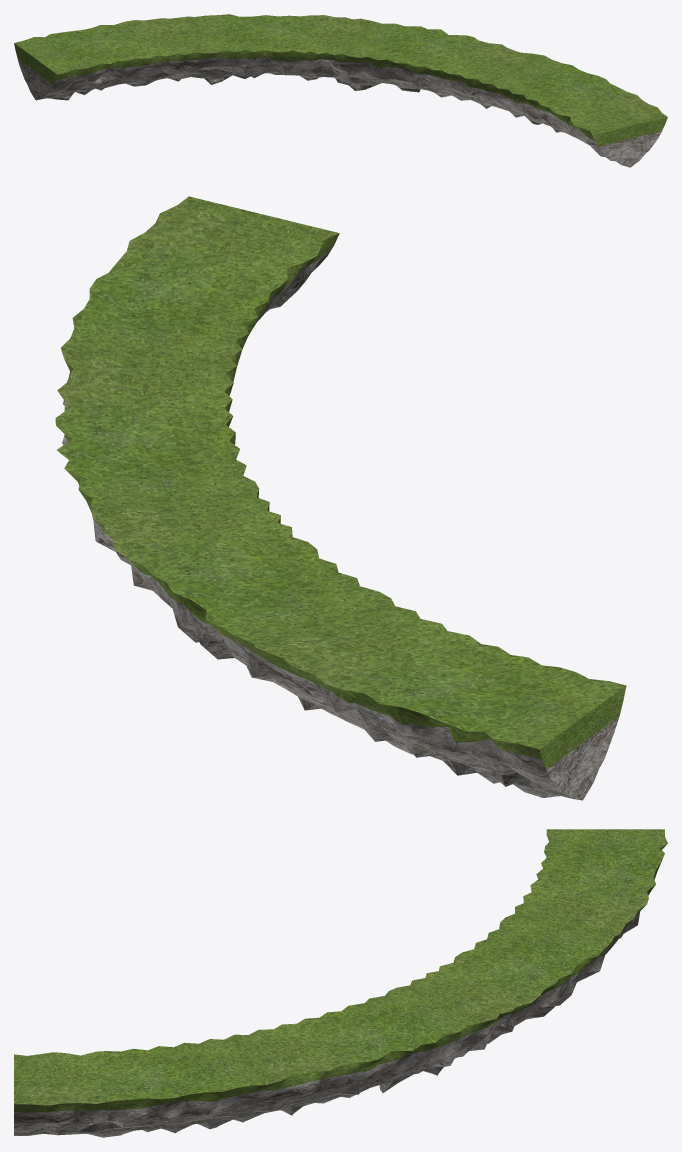
Rendered from Bocht90_Long_Flipped.FBX.
The picture shows the model from 3 angles, top to bottom: view 1: azimuth 30°, elevation 25°; view 2: azimuth 150°, elevation 25°; view 3: azimuth 270°, elevation 25°; orthographic projection. The views are drawn at different scales.
Visible parts, largest first — view 1: Bocht90_Way_Long_Flipped_Final003; view 2: Bocht90_Way_Long_Flipped_Final003; view 3: Bocht90_Way_Long_Flipped_Final003.
Part boxes in pixels (bbox=[...]): Bocht90_Way_Long_Flipped_Final003: bbox=[14, 14, 667, 167]; Bocht90_Way_Long_Flipped_Final003: bbox=[55, 196, 626, 800]; Bocht90_Way_Long_Flipped_Final003: bbox=[14, 829, 667, 1137].
Size of the model in its own units: 2211 by 258 by 2210.
